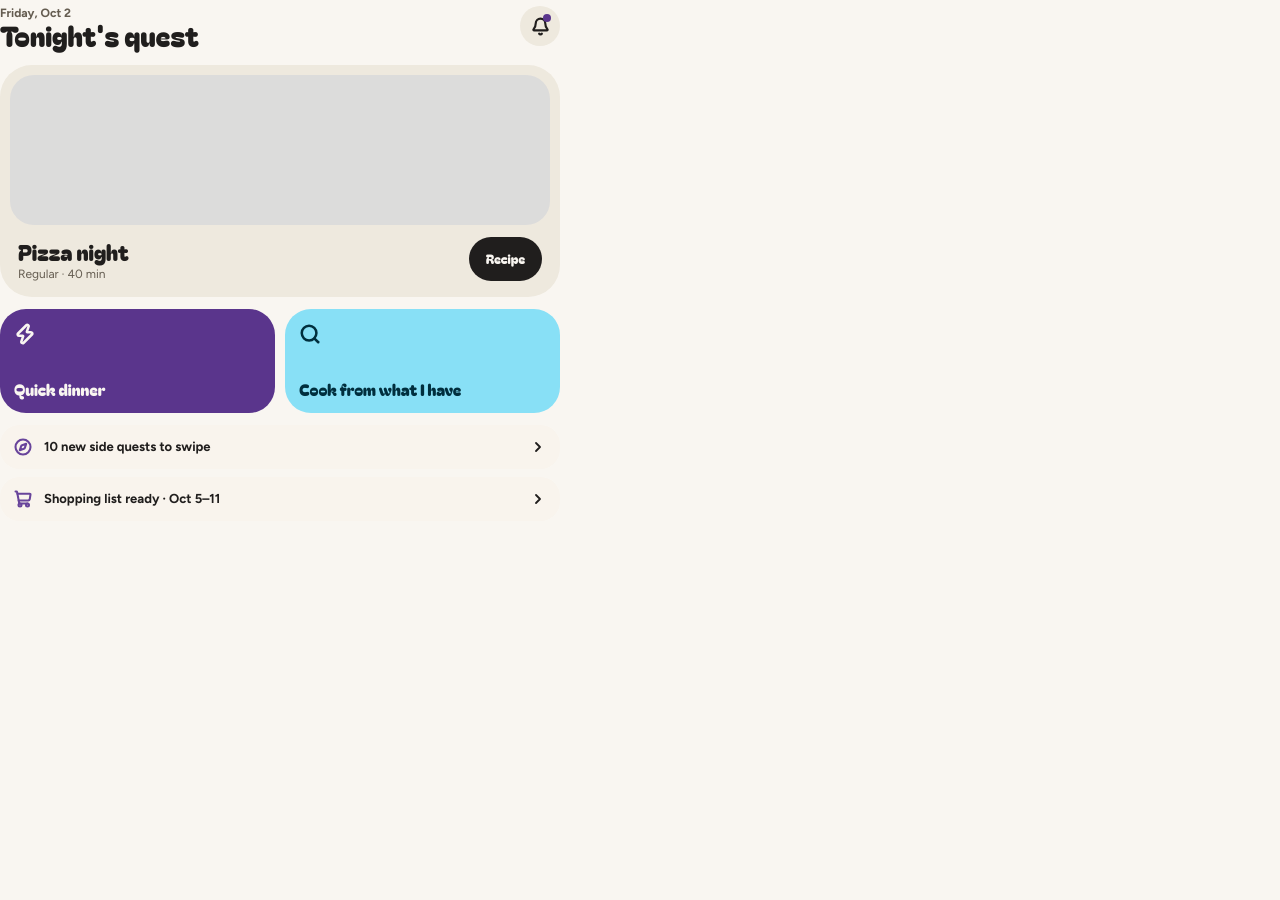
Test case: Recent updates sheet › reads the updates afresh on each opening, so one stored since the last opening is listed and marked seen
Click the button named "Recent updates, unread" at (540, 26), box top-left (518, 4), bottom-right (562, 48)
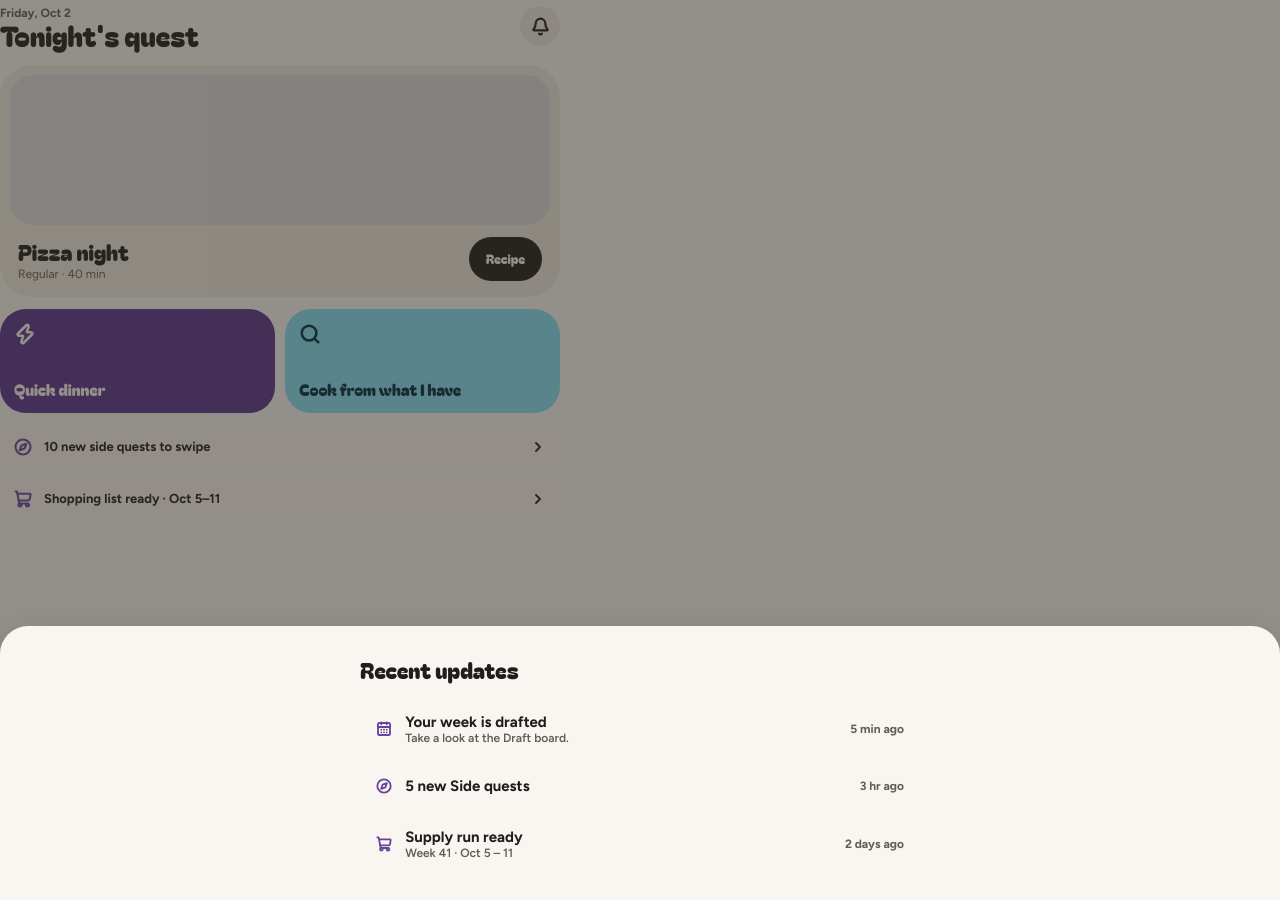
Press Escape in the dialog, box top-left (0, 626), bottom-right (1279, 899)
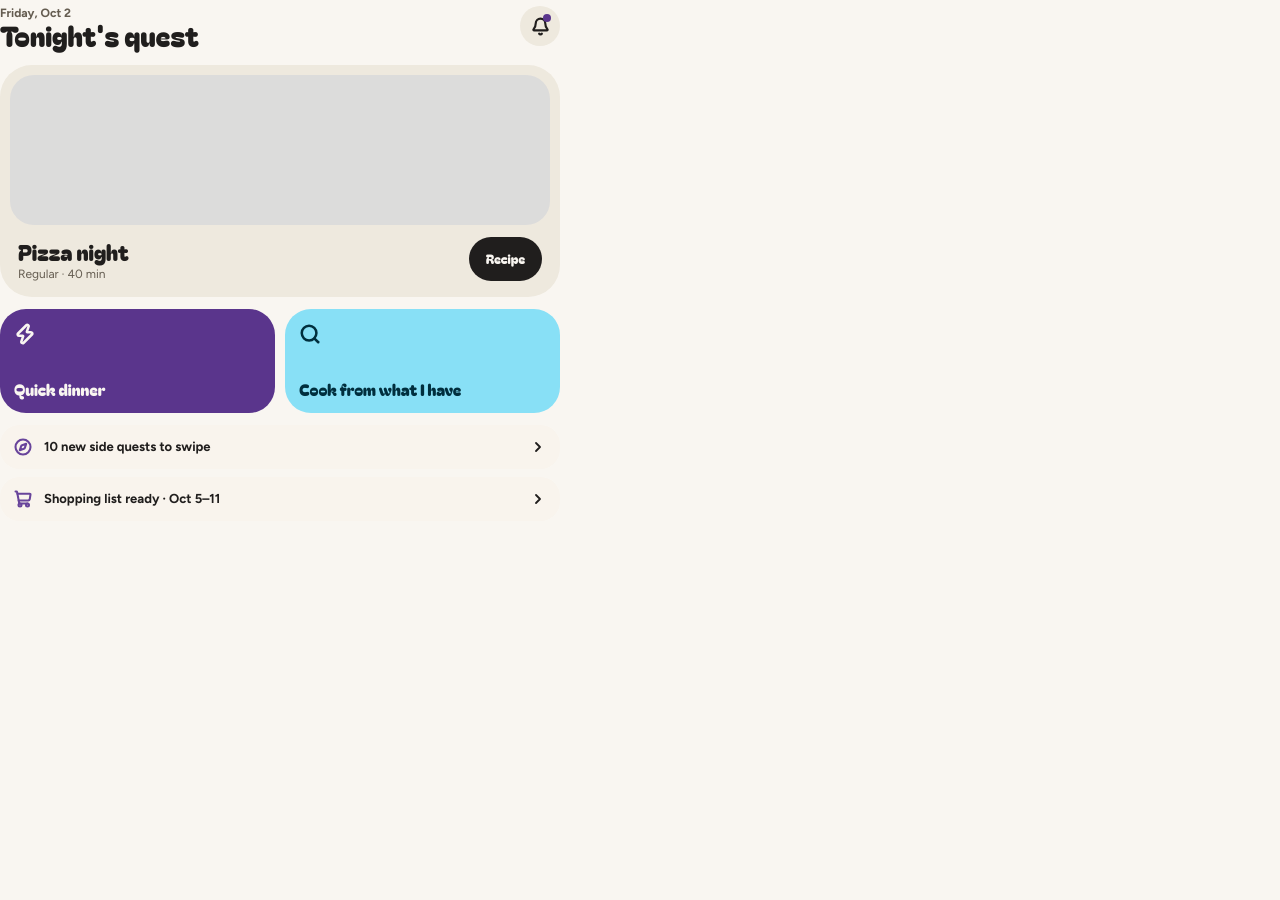
Now the element with test id "unread-dot" is shown, box top-left (543, 14), bottom-right (551, 22)
Click the button named "Recent updates, unread" at (540, 26), box top-left (518, 4), bottom-right (562, 48)
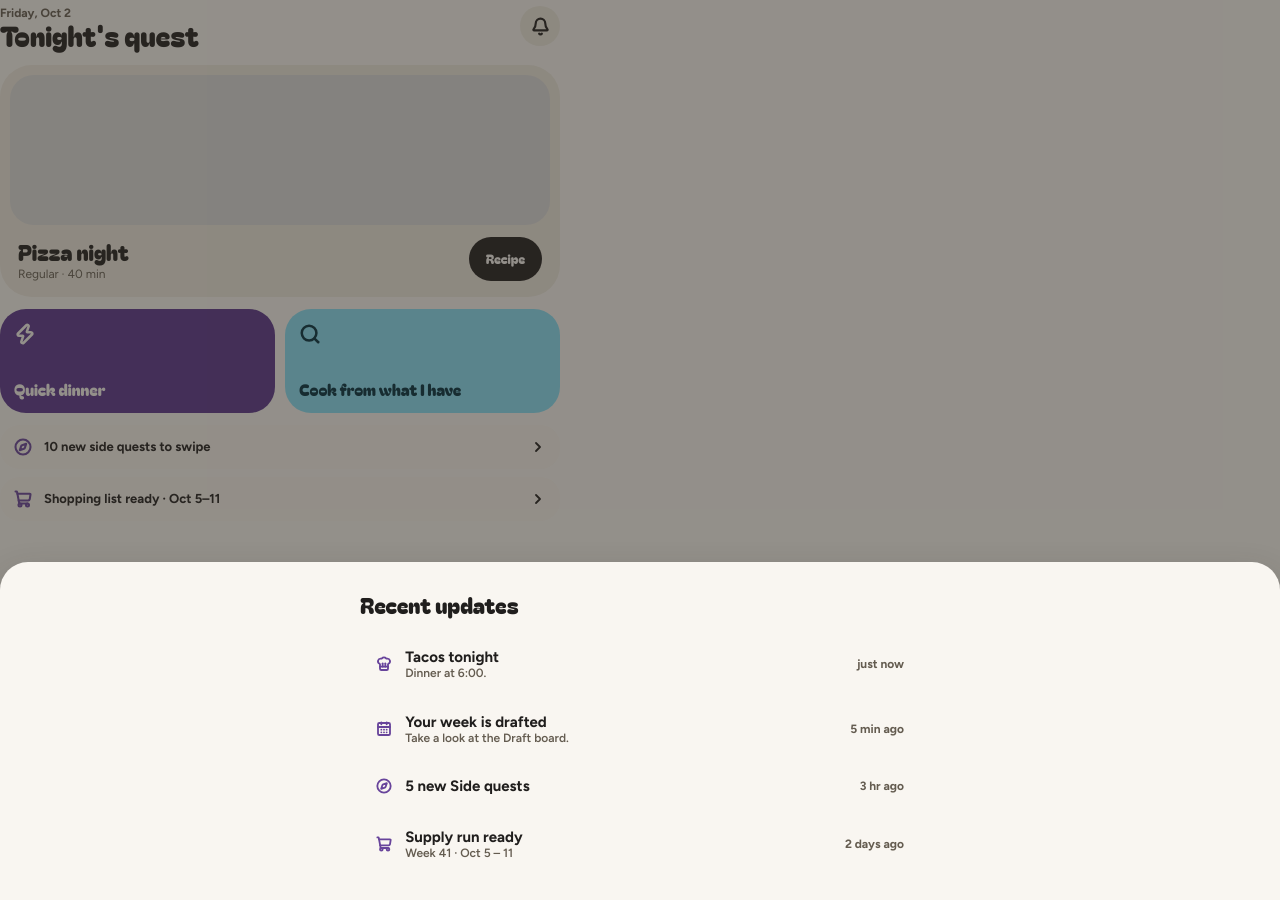
Now the list item "Tacos tonight Dinner at 6:00. just now" is shown, box top-left (360, 634), bottom-right (920, 694)
Now the element with test id "unread-dot" is gone
